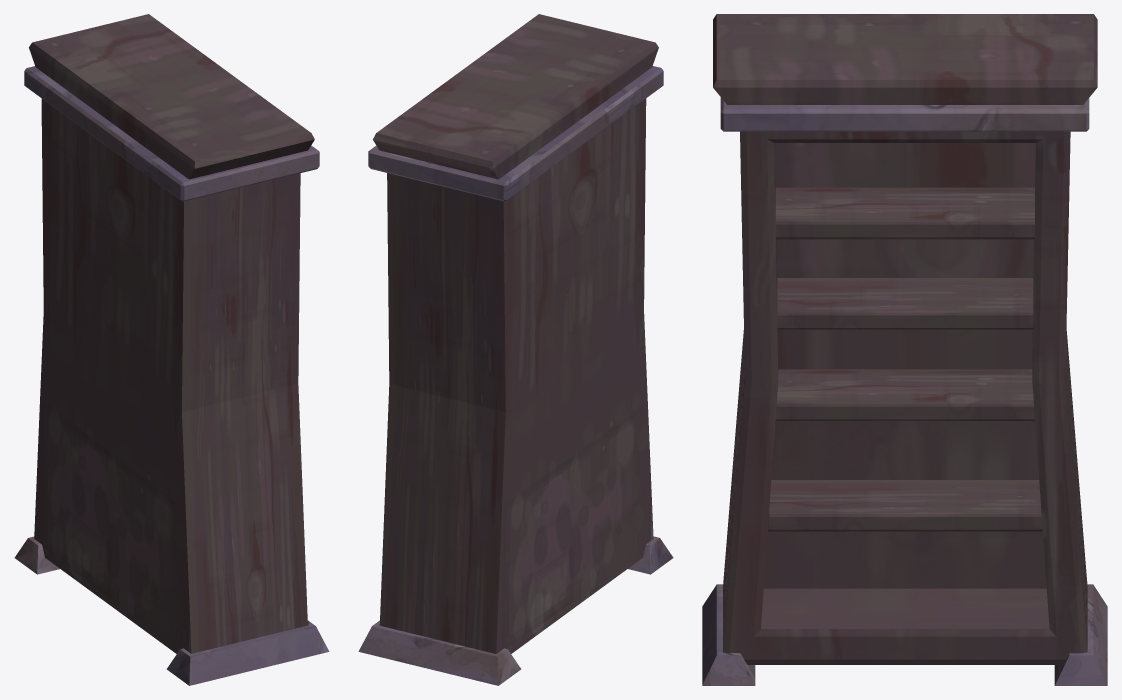
File: Closet_01.fbx
3 views of the same model, side by side, from view 1: azimuth 30°, elevation 25°; view 2: azimuth 150°, elevation 25°; view 3: azimuth 270°, elevation 25° (orthographic). The views are drawn at different scales.
Visible parts, largest first — view 1: Closet_01.001; view 2: Closet_01.001; view 3: Closet_01.001.
Part boxes in pixels (box(x1,y1,x2,y2)): Closet_01.001: box(14, 14, 329, 685); Closet_01.001: box(358, 14, 673, 685); Closet_01.001: box(702, 14, 1107, 685).
Size of the model in its own units: 73.15 by 258 by 158.
